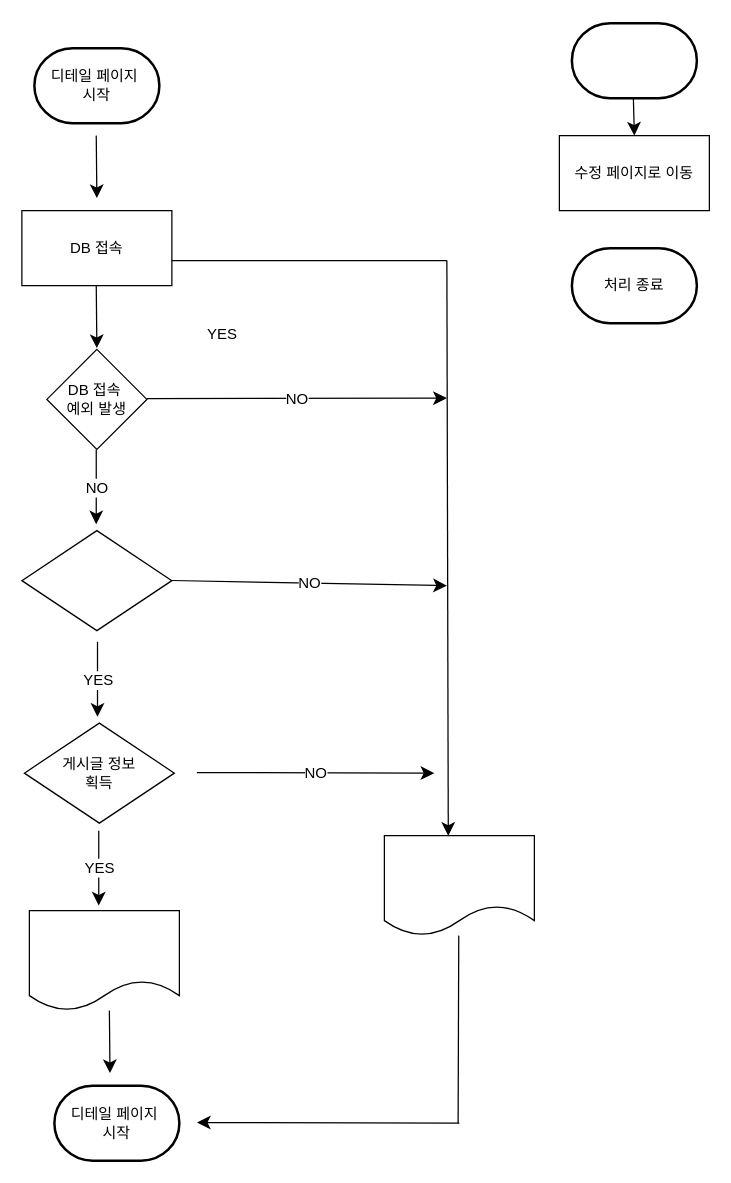
The diagram is 731 pixels wide and 1183 high, and some of its shapes have lost their labels. Each missing label, with the centre of its shape:
"수정 버튼 클릭" goes at pixel 634 60.
"예외 메시지 출력" goes at pixel 458 885.
"파라미터 획득" goes at pixel 96 580.
"화면 출력" goes at pixel 103 960.
